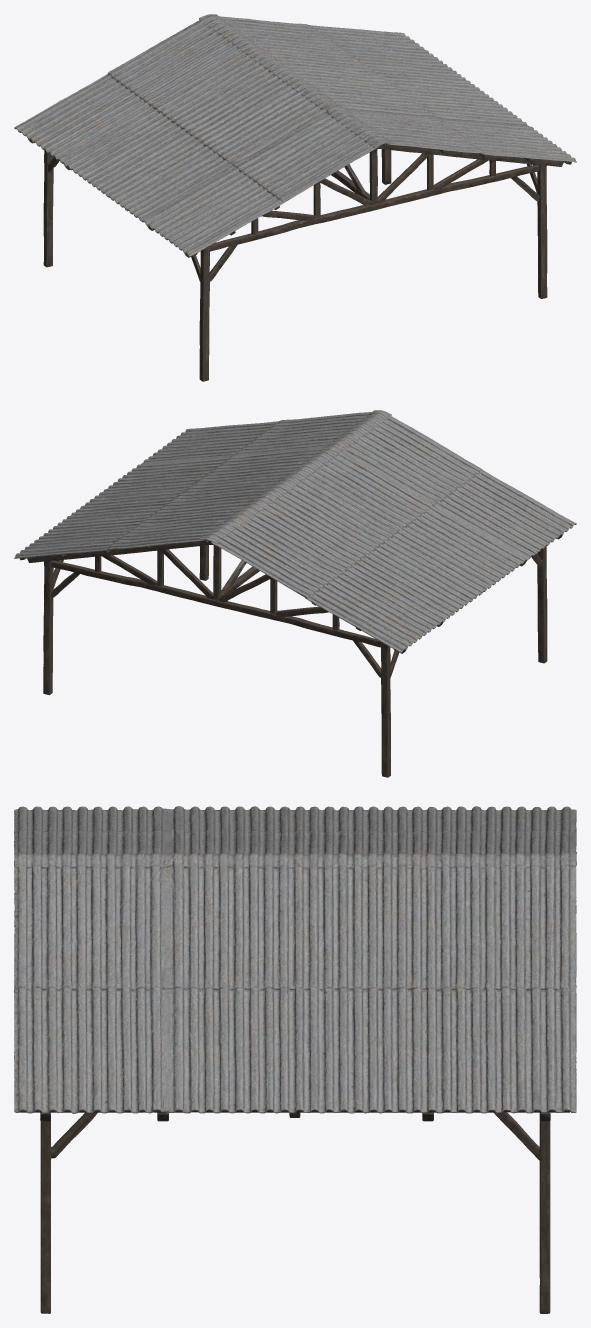
Rendered from ROOF-optimized.glb.
3 views of the same model, one above another, from view 1: azimuth 30°, elevation 25°; view 2: azimuth 150°, elevation 25°; view 3: azimuth 270°, elevation 25° (orthographic). The views are drawn at different scales.
Visible parts, largest first — view 1: mesh_node; view 2: mesh_node; view 3: mesh_node.
Part boxes in pixels (left/top/right/bottom): mesh_node: left=14, top=14, right=576, bottom=381; mesh_node: left=14, top=410, right=576, bottom=777; mesh_node: left=14, top=806, right=576, bottom=1313.
Size of the model in its own units: 1.9 by 0.9527 by 1.5.
Materials: 1 (1 with a texture image).
